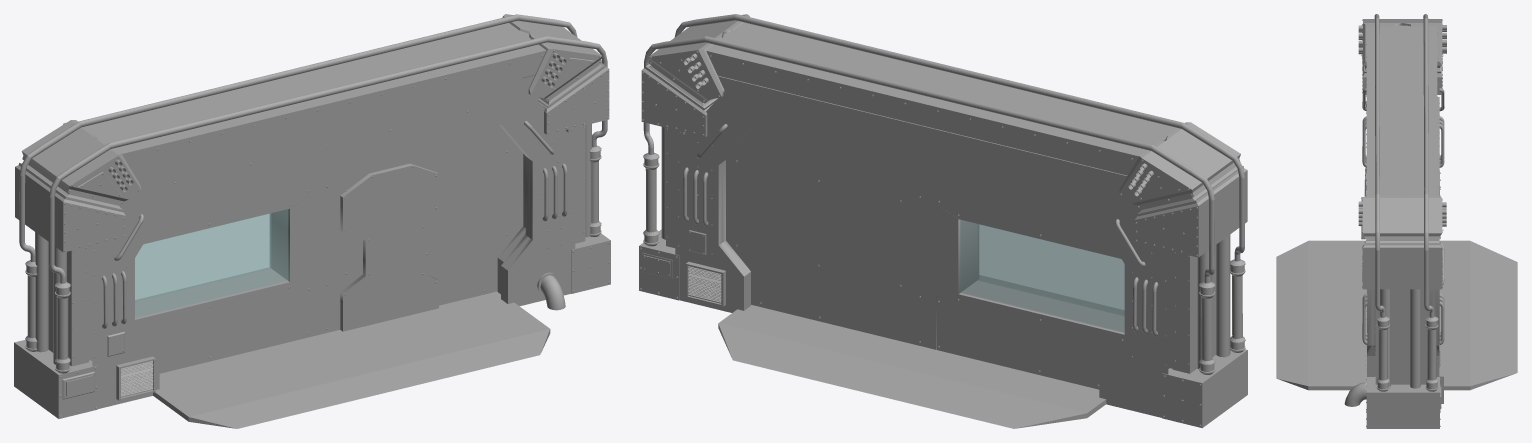
The model's file is LD_Updated.fbx.
The picture shows the model from 3 angles, left to right: view 1: azimuth 30°, elevation 25°; view 2: azimuth 150°, elevation 25°; view 3: azimuth 270°, elevation 25°; orthographic projection. The views are drawn at different scales.
Parts seen in each view (by area): view 1: LD_OutsideFrame, R_Door, LD_InsideFrame, L_Door, LD_BottomPlatform; view 2: LD_OutsideFrame, R_Door, LD_InsideFrame, L_Door, LD_BottomPlatform; view 3: LD_OutsideFrame, LD_BottomPlatform, LD_InsideFrame.
Part boxes in pixels (box(x1,y1,x2,y2)): LD_OutsideFrame: box(14, 14, 610, 418); R_Door: box(290, 110, 522, 336); LD_InsideFrame: box(89, 78, 575, 408); L_Door: box(135, 145, 326, 391); LD_BottomPlatform: box(153, 291, 550, 428); LD_OutsideFrame: box(639, 14, 1247, 428); R_Door: box(726, 81, 958, 349); LD_InsideFrame: box(675, 88, 1172, 417); L_Door: box(936, 131, 1172, 389); LD_BottomPlatform: box(718, 275, 1124, 428); LD_OutsideFrame: box(1358, 14, 1446, 428); LD_BottomPlatform: box(1276, 240, 1517, 390); LD_InsideFrame: box(1344, 88, 1444, 406).
Size of the model in its own units: 7.95 by 3.51 by 3.61.
